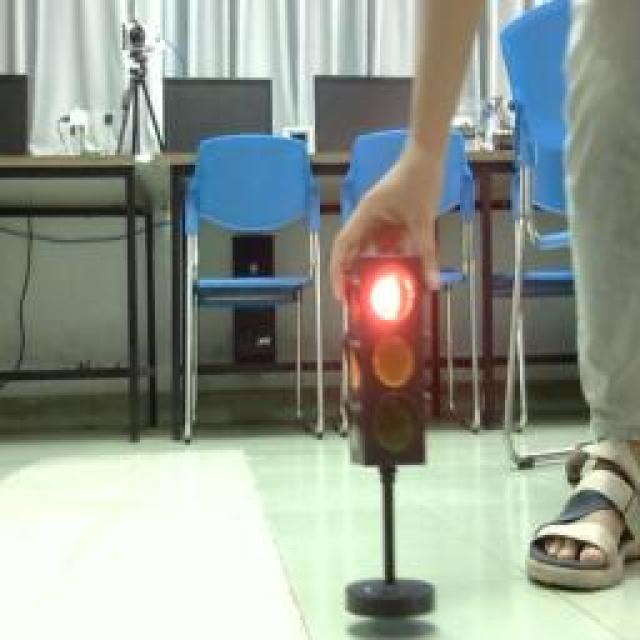-: (364, 265, 419, 327)
